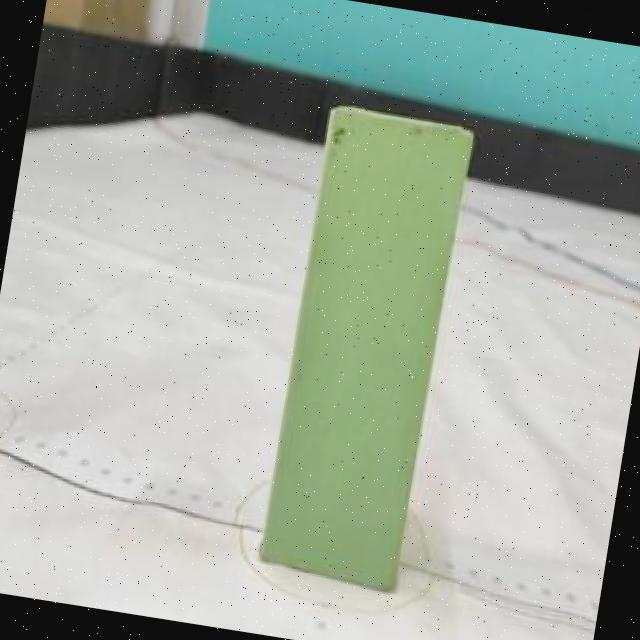greenbox: (258, 106, 474, 598)
